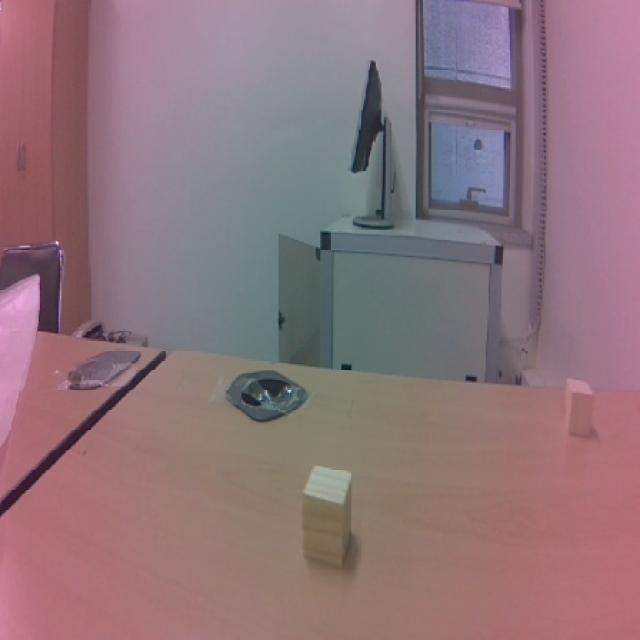obstacle: (286, 454, 371, 572), (553, 368, 608, 442)
